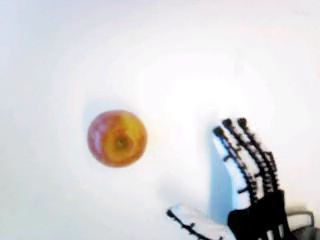apple: (87, 109, 145, 167)
hand: (166, 116, 287, 240)
